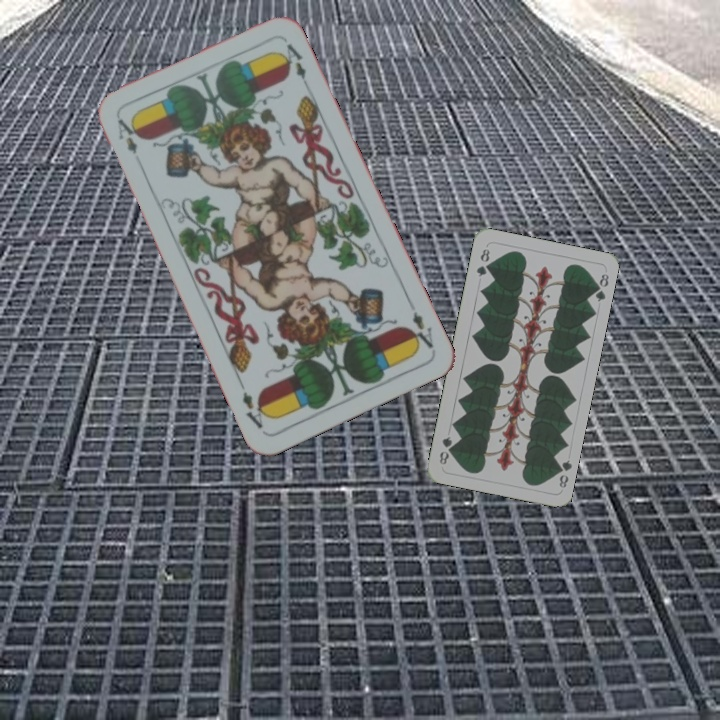EA: (405, 307, 436, 353), (113, 114, 140, 157)
G8: (552, 456, 574, 490), (472, 244, 492, 279)
